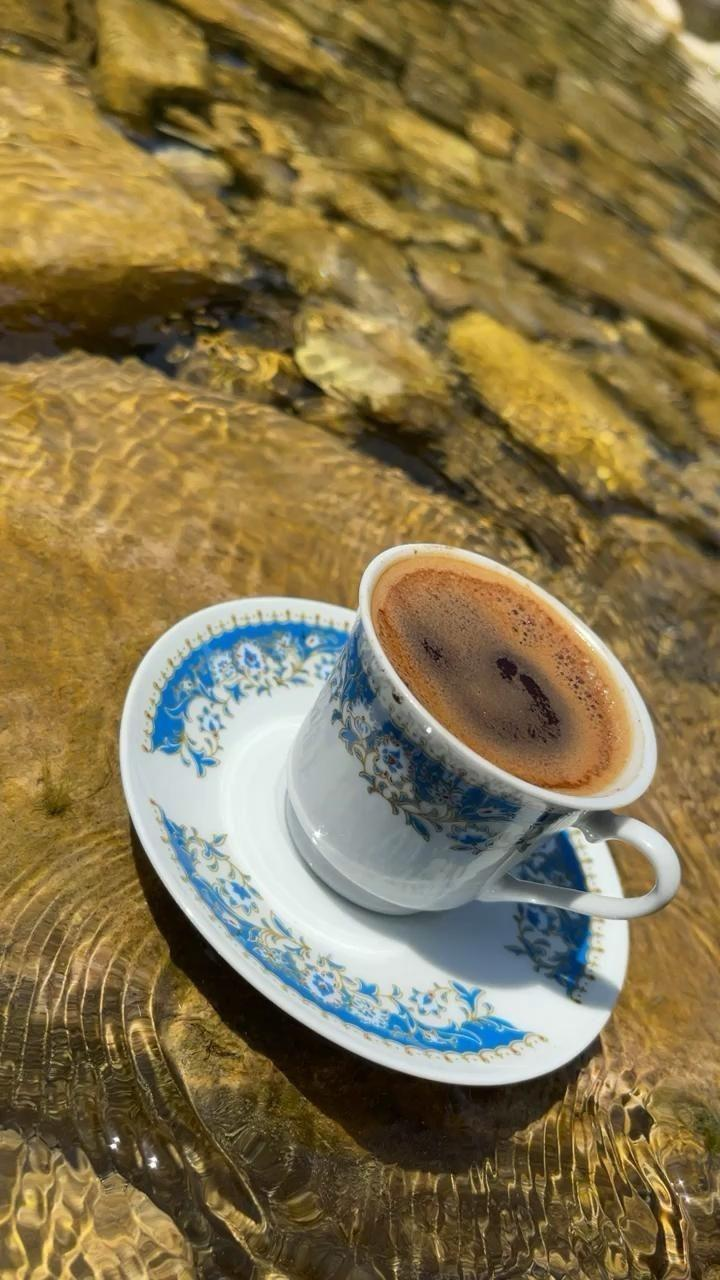cup-handle: (282, 541, 682, 925)
